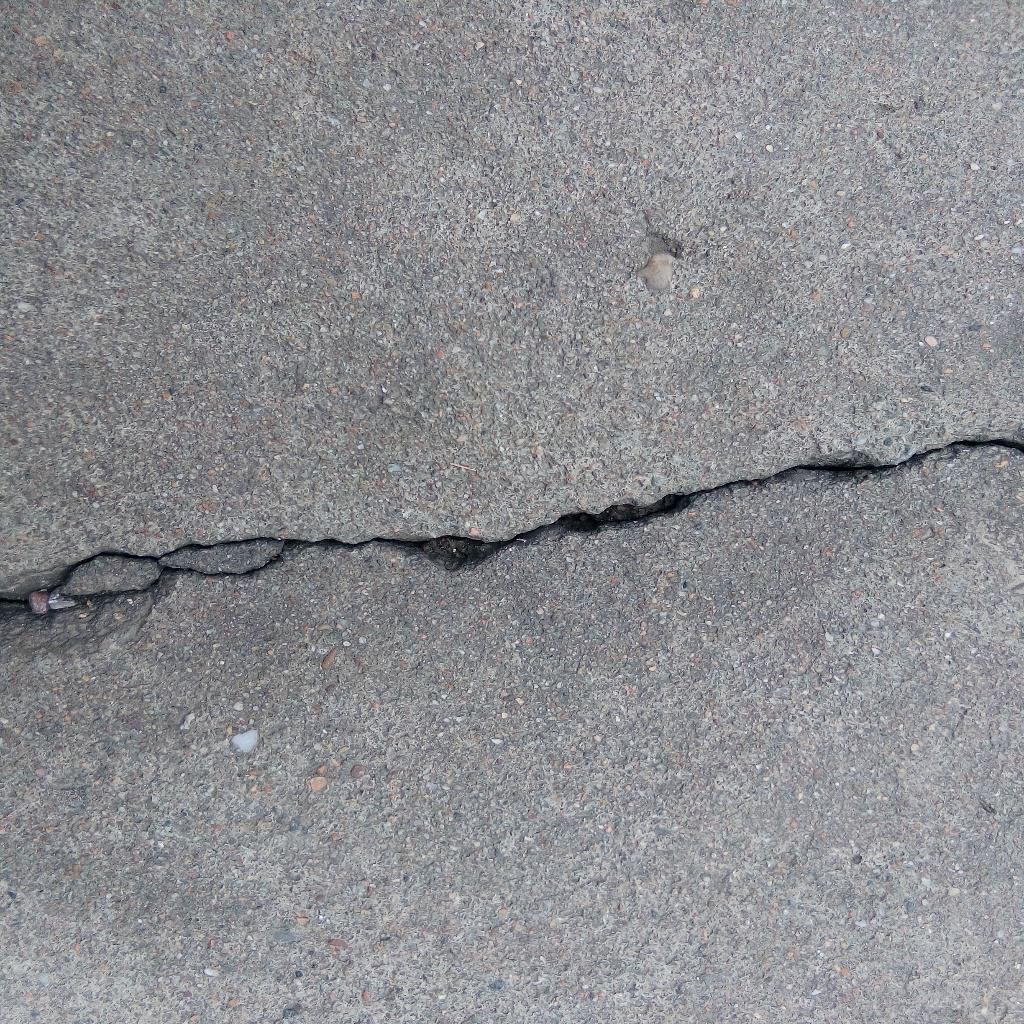Crack: (1, 433, 1024, 666)
